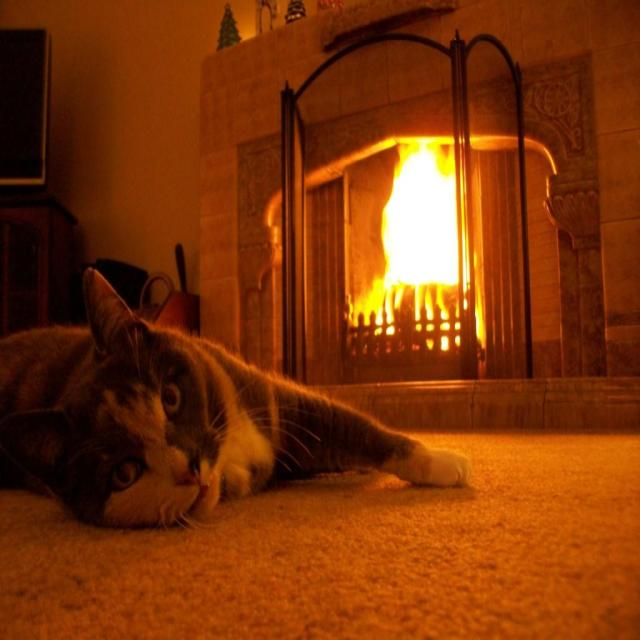Fire: (373, 142, 473, 316)
